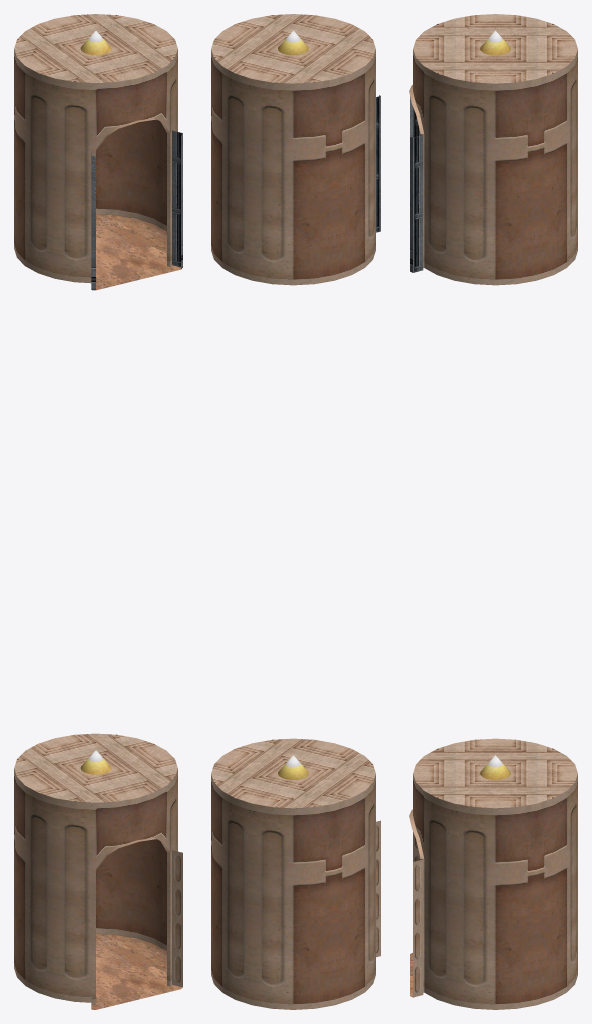
Rendered from thm_nboo_thed_emp_retreat_r6_empelevator_mesh_r6.fbx.
The picture shows the model from 3 angles, left to right: view 1: azimuth 30°, elevation 25°; view 2: azimuth 150°, elevation 25°; view 3: azimuth 270°, elevation 25°; orthographic projection.
Visible parts, largest first — view 1: mesh_node; view 2: mesh_node; view 3: mesh_node.
Boxes of the visible parts, x1,y1,x2,y2 form: mesh_node: [14, 14, 182, 1009]; mesh_node: [211, 14, 380, 1009]; mesh_node: [409, 14, 577, 1009].
Bounding box in the file's own units: 4 × 25.29 × 4.1.
